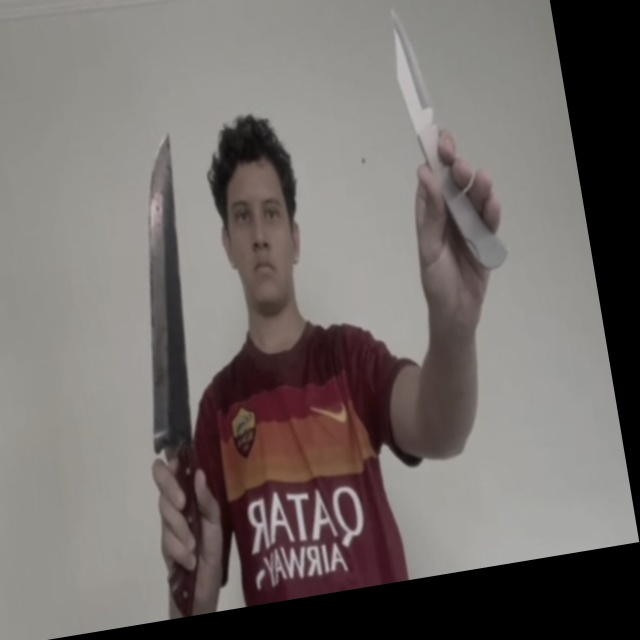Sharp-Object: (102, 132, 221, 454), (387, 1, 436, 130)
